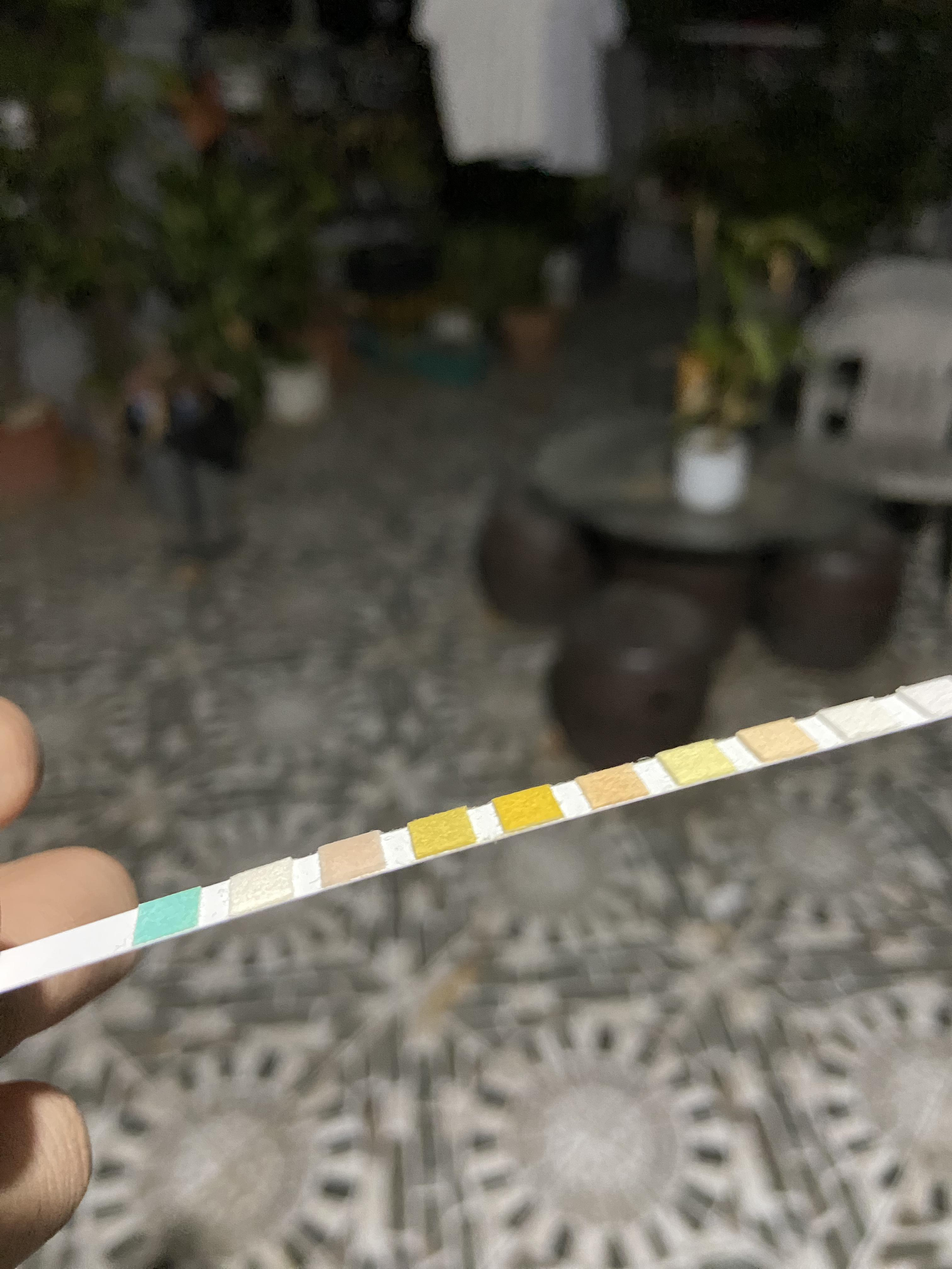Bilirubin: (231, 878, 288, 898)
Blood: (501, 796, 548, 823)
Glucose: (140, 905, 197, 926)
Ketone: (318, 849, 382, 868)
Leukocytes: (930, 680, 952, 713)
Nitrite: (847, 704, 878, 731)
Protein: (682, 748, 719, 773)
SpGravity: (410, 822, 470, 840)
Urobilinogen: (764, 724, 792, 753)
pH: (594, 772, 633, 798)
strip: (0, 674, 952, 994)
